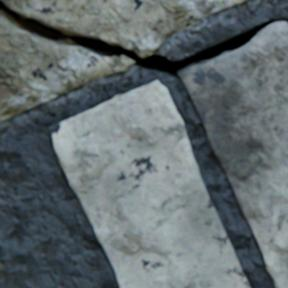brick: (49, 80, 250, 287), (179, 22, 287, 287), (0, 260, 6, 271)
broken_brick: (0, 12, 135, 122), (3, 0, 247, 57)
crack: (0, 0, 287, 77)
